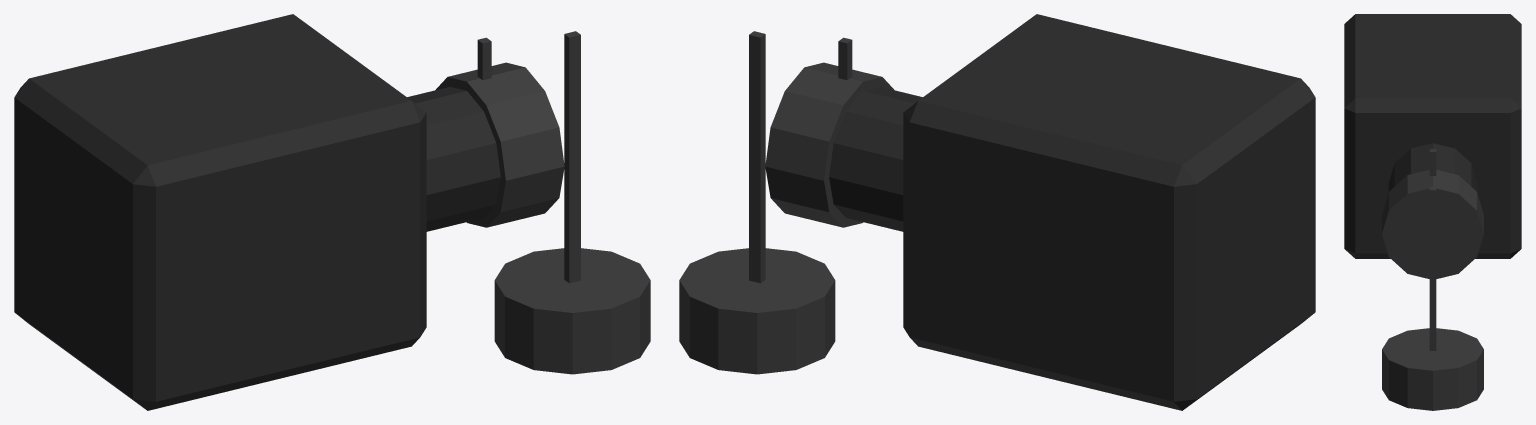
Rendered from PAN_CtrlConnector.fbx.
3 views of the same model, side by side, from view 1: azimuth 30°, elevation 25°; view 2: azimuth 150°, elevation 25°; view 3: azimuth 270°, elevation 25° (orthographic). The views are drawn at different scales.
Visible parts, largest first — view 1: Connector_Body, DustCap_Off, DustCap_On; view 2: Connector_Body, DustCap_Off, DustCap_On; view 3: Connector_Body, DustCap_On, DustCap_Off.
Part boxes in pixels (box(x1,y1,x2,y2)): Connector_Body: box(14, 14, 500, 410); DustCap_Off: box(494, 31, 650, 374); DustCap_On: box(435, 37, 564, 227); Connector_Body: box(829, 14, 1315, 410); DustCap_Off: box(679, 31, 835, 374); DustCap_On: box(765, 37, 894, 227); Connector_Body: box(1344, 14, 1521, 258); DustCap_On: box(1382, 149, 1483, 278); DustCap_Off: box(1382, 186, 1483, 410).
Size of the model in its own units: 0.193 by 0.11 by 0.08.
Materials: 2 (2 with a texture image).
